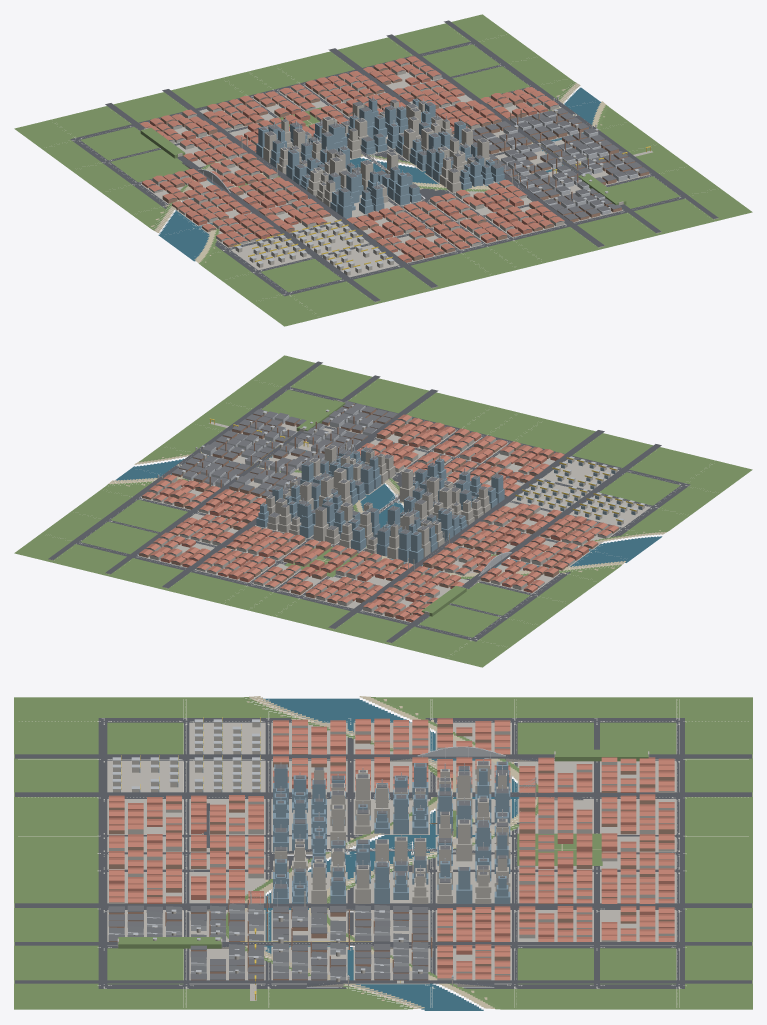
File: riverbend.glb
3 views of the same model, one above another, from view 1: azimuth 30°, elevation 25°; view 2: azimuth 150°, elevation 25°; view 3: azimuth 270°, elevation 25° (orthographic). The views are drawn at different scales.
Parts seen in each view (by area): view 1: city; view 2: city; view 3: city.
Part boxes in pixels (left/top/right/bottom): city: left=14, top=14, right=752, bottom=326; city: left=14, top=355, right=752, bottom=667; city: left=14, top=696, right=752, bottom=1010.
Size of the model in its own units: 1800 by 144 by 1800.
